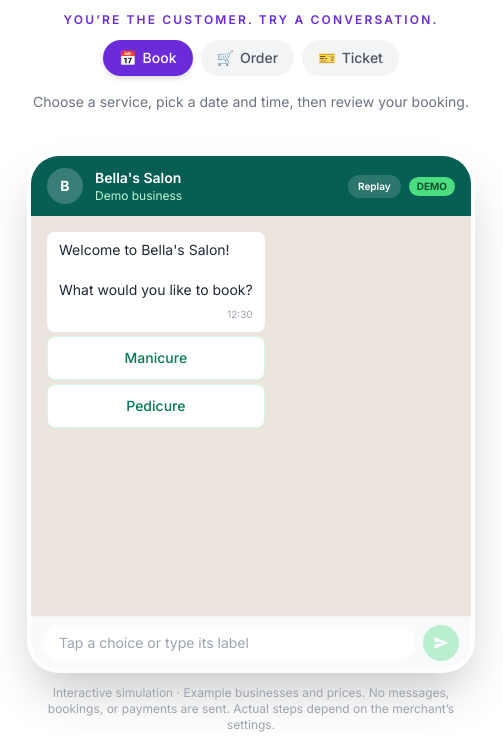
Test: interactive customer demo › does not allow typed future choices to skip steps and recovers with current choices
In the field named "Demo message": (229, 643) [43,625,415,661], type "Simulate payment"
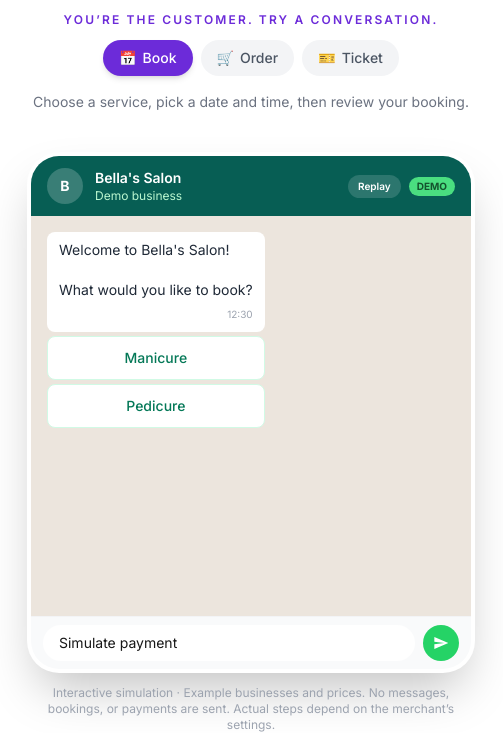
Press Enter in the field named "Demo message", box [43,625,415,661]
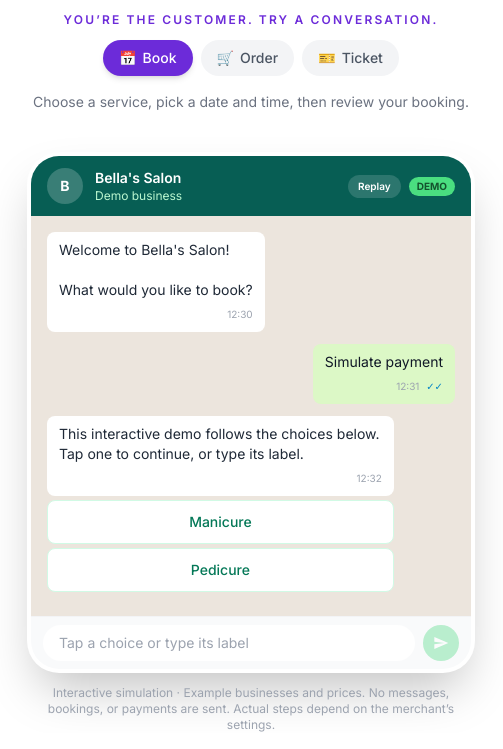
Click the button "Manicure": (220, 522) [47,500,394,544]
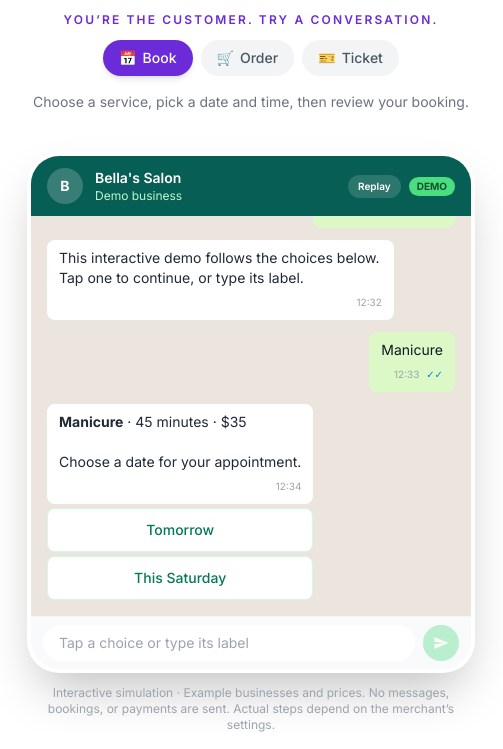
Now the element named "Example WhatsApp conversation" shows "$35", box [59,413,301,470]
Now the button "Tomorrow" is shown, box [47,508,313,552]
